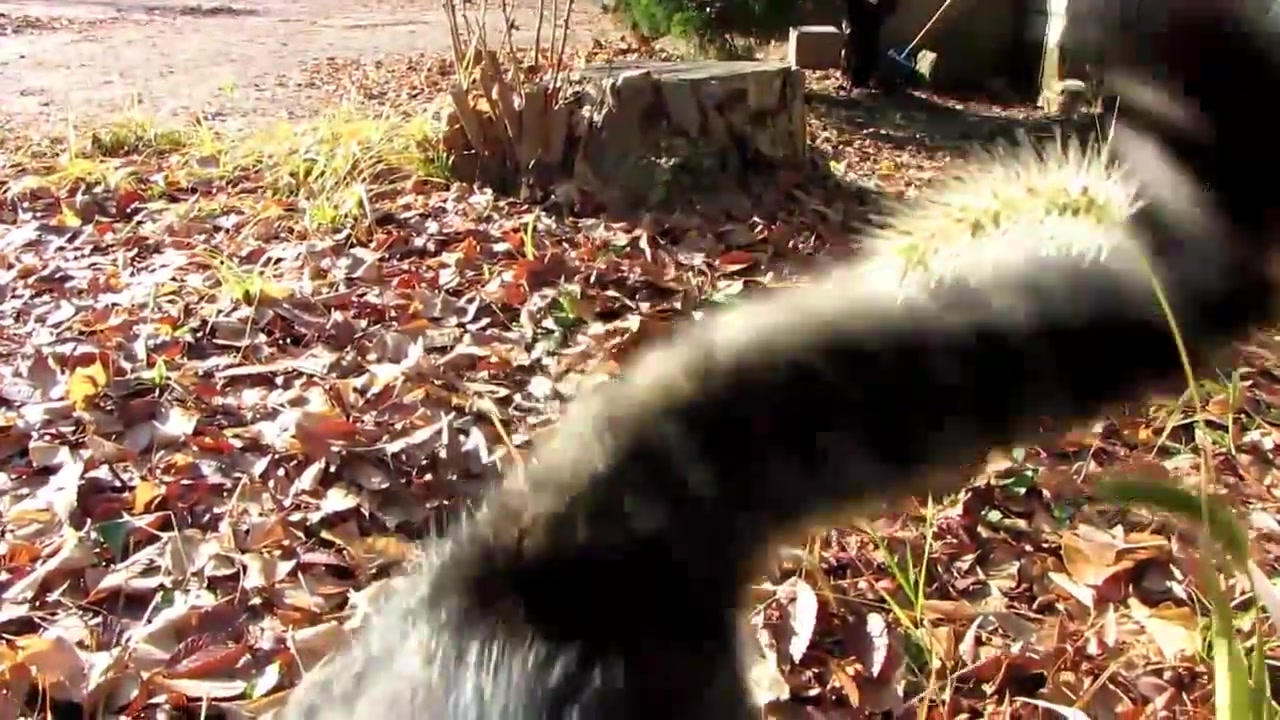cat: (264, 5, 1280, 720)
